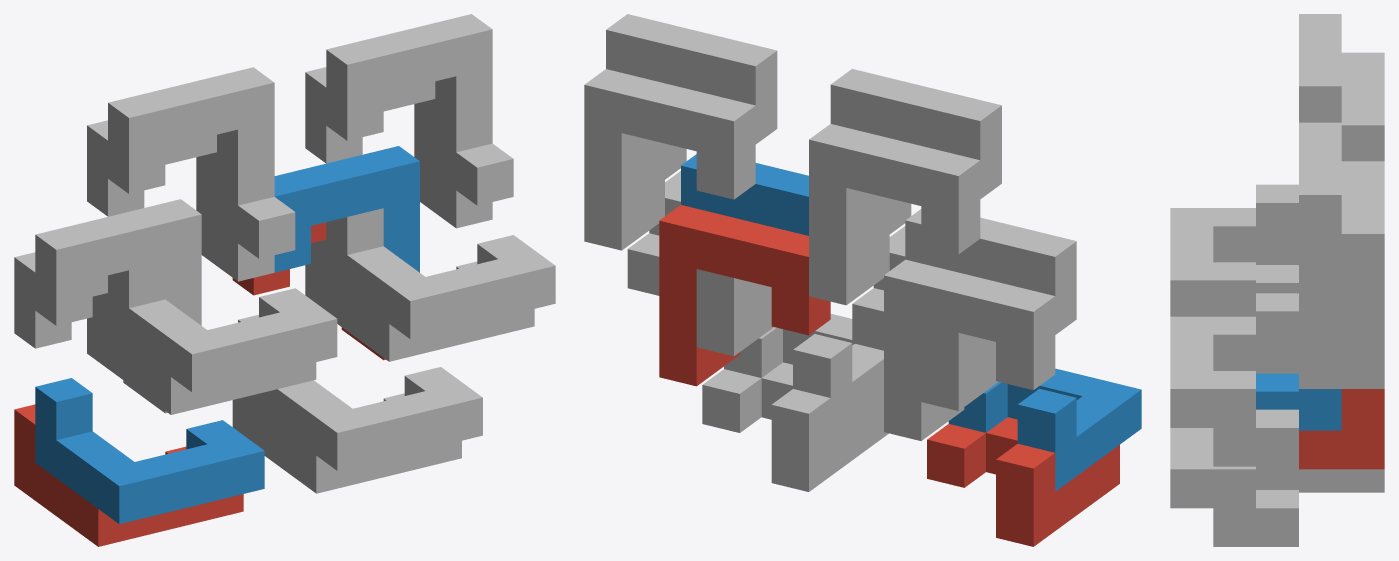
File: tiling.obj
3 views of the same model, side by side, from view 1: azimuth 30°, elevation 25°; view 2: azimuth 150°, elevation 25°; view 3: azimuth 270°, elevation 25° (orthographic). The views are drawn at different scales.
Visible parts, largest first — view 1: copy_2_domain_8, copy_2_domain_4, copy_1_domain_2, copy_1_domain_4, copy_1_domain_8, copy_1_domain_6, copy_2_domain_2, copy_2_domain_6, copy_2_domain_7, copy_2_domain_3, copy_1_domain_1, copy_1_domain_3 (+4 smaller); view 2: copy_2_domain_7, copy_2_domain_3, copy_2_domain_1, copy_2_domain_5, copy_2_domain_8, copy_2_domain_4, copy_1_domain_1, copy_1_domain_5, copy_1_domain_2, copy_1_domain_6, copy_2_domain_2, copy_1_domain_7 (+4 smaller); view 3: copy_2_domain_8, copy_2_domain_7, copy_1_domain_8, copy_1_domain_4, copy_1_domain_5, copy_2_domain_4, copy_1_domain_6, copy_2_domain_5, copy_2_domain_3, copy_1_domain_7, copy_2_domain_6, copy_2_domain_2.
Part boxes in pixels (x1,y1,x2,y2): copy_2_domain_8: (326,14,513,205); copy_2_domain_4: (108,67,295,258); copy_1_domain_2: (35,378,264,524); copy_1_domain_4: (108,261,337,392); copy_1_domain_8: (326,208,555,338); copy_1_domain_6: (253,367,482,470); copy_2_domain_2: (35,199,201,325); copy_2_domain_6: (274,146,419,272); copy_2_domain_7: (305,67,492,228); copy_2_domain_3: (87,120,274,281); copy_1_domain_1: (14,404,243,546); copy_1_domain_3: (87,293,316,414); copy_2_domain_7: (584,69,755,250); copy_2_domain_3: (809,124,980,305); copy_2_domain_1: (884,259,1055,440); copy_2_domain_5: (659,205,830,386); copy_2_domain_8: (606,14,777,195); copy_2_domain_4: (830,69,1001,249); copy_1_domain_1: (927,417,1119,546); copy_1_domain_5: (702,362,888,491); copy_1_domain_2: (948,368,1141,491); copy_1_domain_6: (724,314,883,436); copy_2_domain_2: (905,209,1076,334); copy_1_domain_7: (627,233,773,356); copy_2_domain_8: (1256,122,1341,350); copy_2_domain_7: (1299,161,1384,388); copy_1_domain_8: (1170,316,1298,427); copy_1_domain_4: (1170,208,1298,316); copy_1_domain_5: (1213,466,1384,546); copy_2_domain_4: (1256,14,1341,241); copy_1_domain_6: (1170,428,1255,508); copy_2_domain_5: (1299,389,1384,469); copy_2_domain_3: (1341,52,1384,161); copy_1_domain_7: (1213,409,1298,466); copy_2_domain_6: (1256,373,1341,430); copy_2_domain_2: (1256,265,1298,293).
Bounding box in the file's own units: 12 × 10 × 5.
